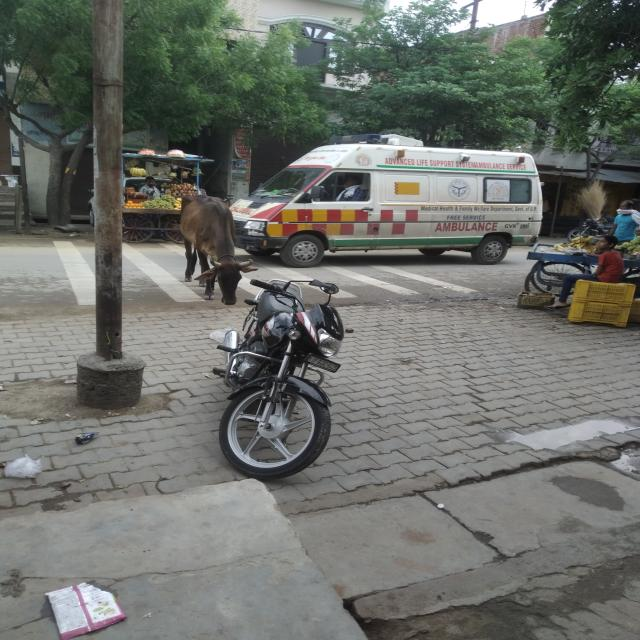Traveller: (230, 135, 543, 266)
Two Wheeler: (220, 281, 343, 479)
